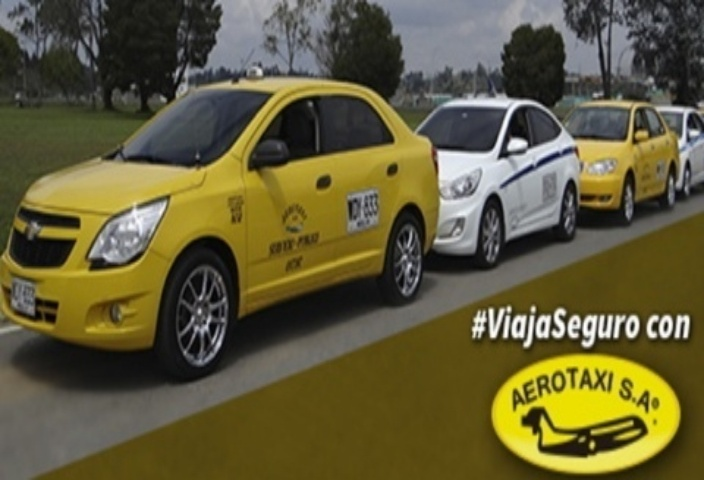car: (411, 84, 581, 257), (649, 103, 704, 192)
taxi: (26, 72, 442, 353), (554, 99, 686, 227)
